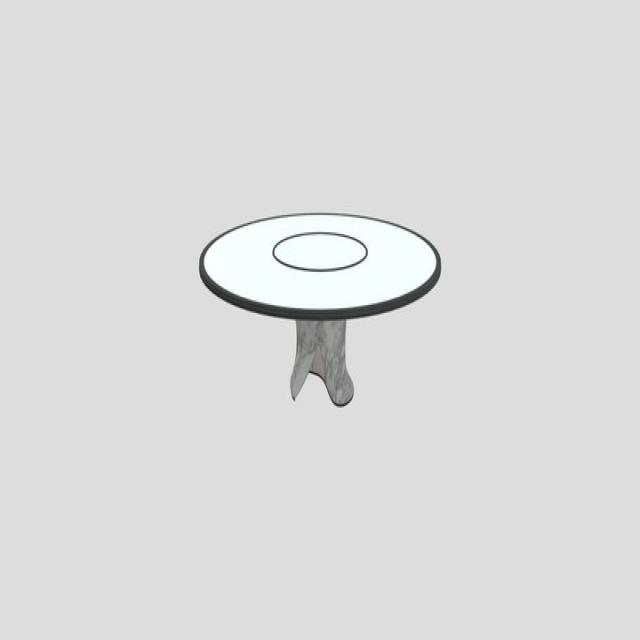table: (198, 208, 442, 410)
